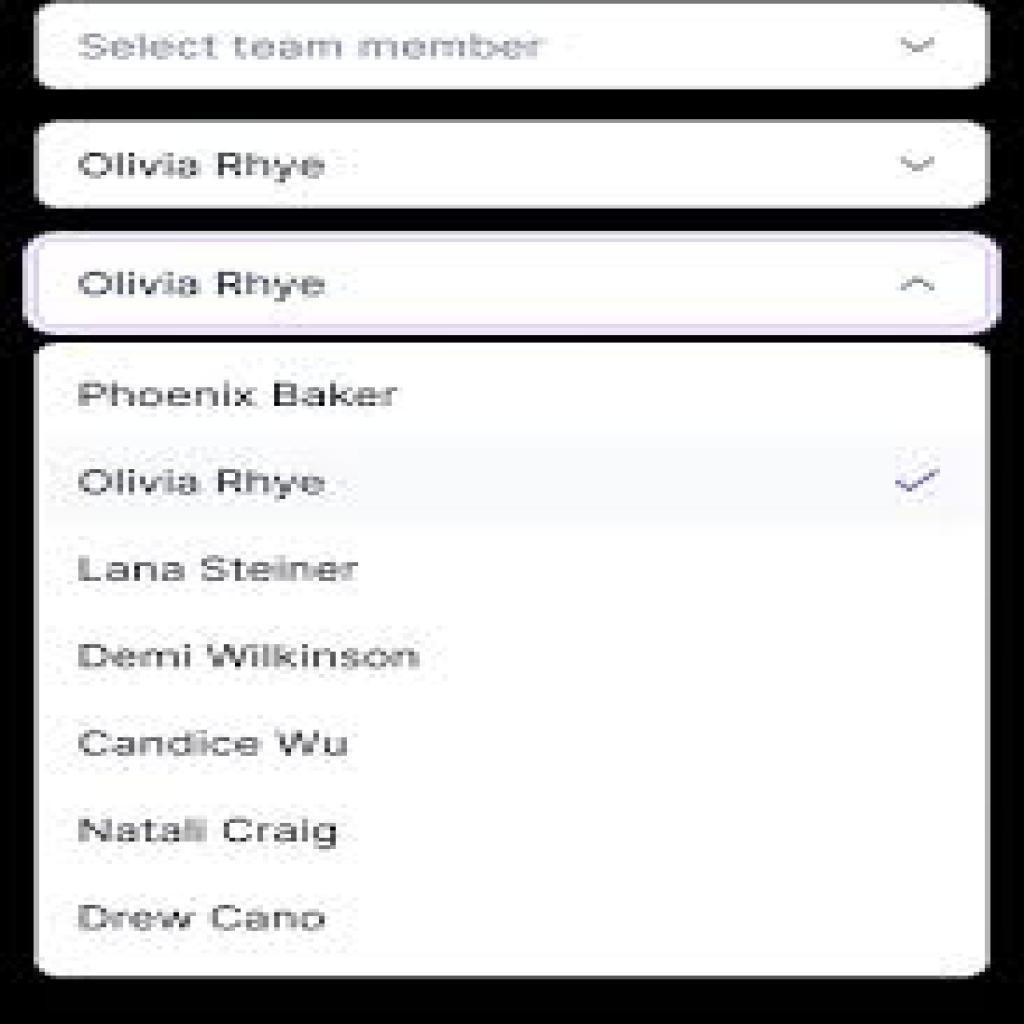dropdown: (25, 231, 998, 335), (35, 1, 992, 94), (35, 122, 991, 210)
icon: (892, 465, 944, 499)
